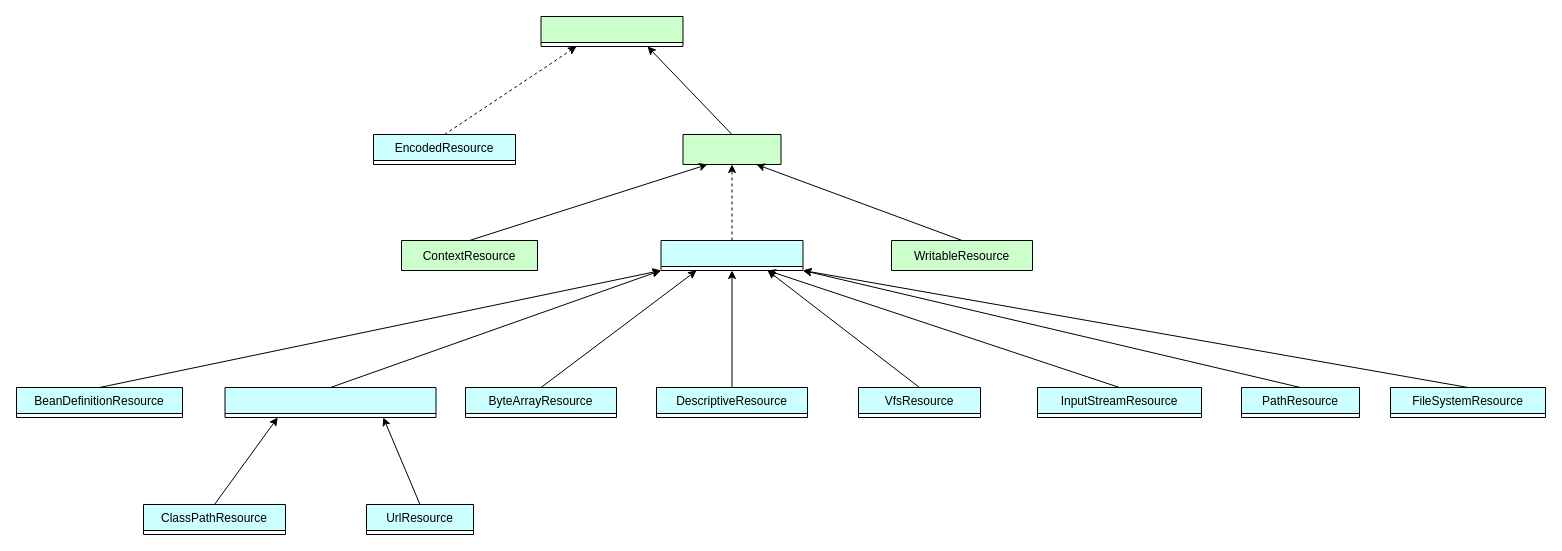
The diagram is 1562 pixels wide and 551 high, and some of its shapes have lost their labels. Here are the shapes that lost their labels. From the top down, the centre of each, then its label:
At point (611, 31): "InputStreamSource".
At point (731, 149): "Resource".
At point (731, 255): "AbstractResource".
At point (330, 402): "AbstractFileResolvingResource".
